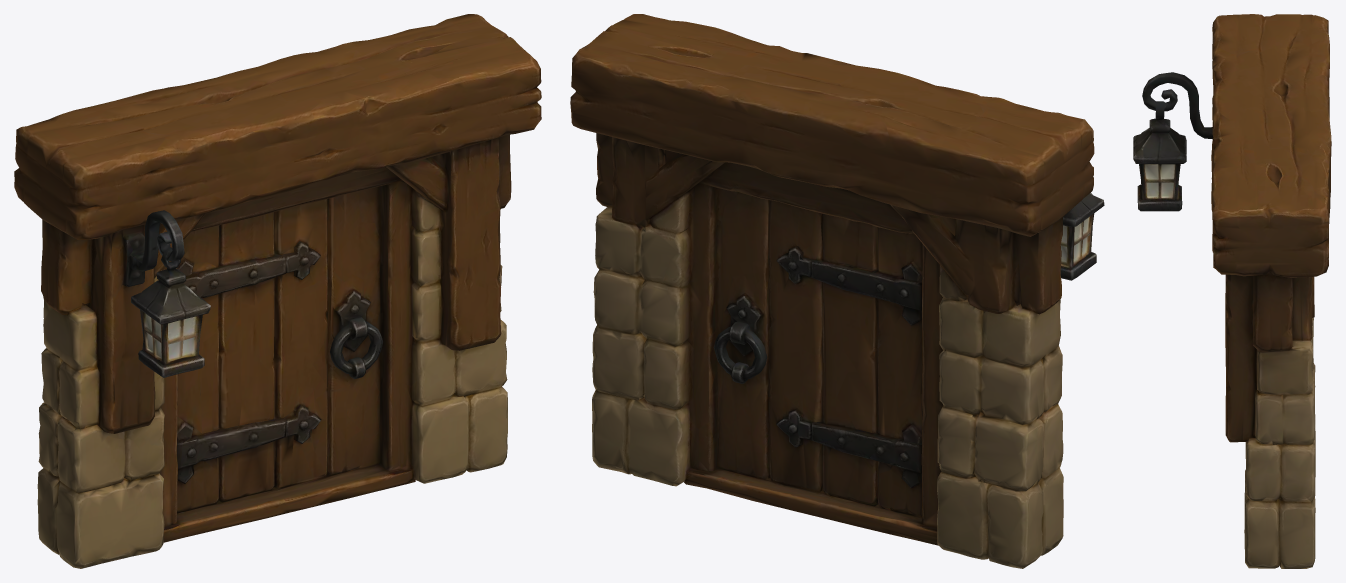
The model's file is mod_door_b.glb.
The picture shows the model from 3 angles, left to right: view 1: azimuth 30°, elevation 25°; view 2: azimuth 150°, elevation 25°; view 3: azimuth 270°, elevation 25°; orthographic projection. The views are drawn at different scales.
Parts seen in each view (by area): view 1: tripo_node_06074503-3850-4b2f-a844-67d766f7da5f; view 2: tripo_node_06074503-3850-4b2f-a844-67d766f7da5f; view 3: tripo_node_06074503-3850-4b2f-a844-67d766f7da5f.
Part boxes in pixels (x1=…): tripo_node_06074503-3850-4b2f-a844-67d766f7da5f: x1=14, y1=14, x2=541, y2=568; tripo_node_06074503-3850-4b2f-a844-67d766f7da5f: x1=570, y1=14, x2=1104, y2=568; tripo_node_06074503-3850-4b2f-a844-67d766f7da5f: x1=1133, y1=14, x2=1331, y2=568.
Bounding box in the file's own units: 0.9801 × 0.8448 × 0.4119.
Materials: 1 (1 with a texture image).
